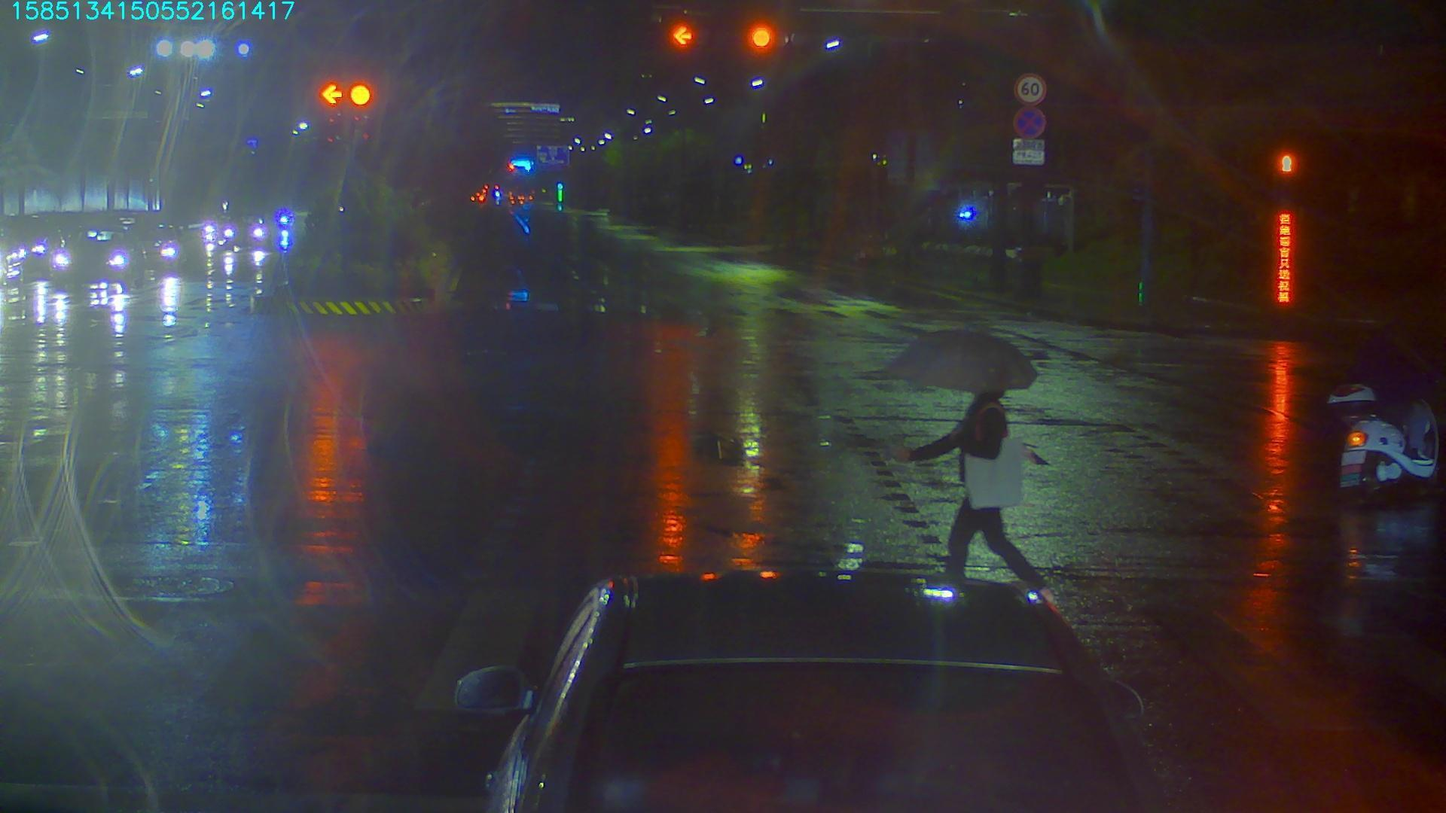red: (747, 20, 790, 47), (673, 24, 694, 50)
